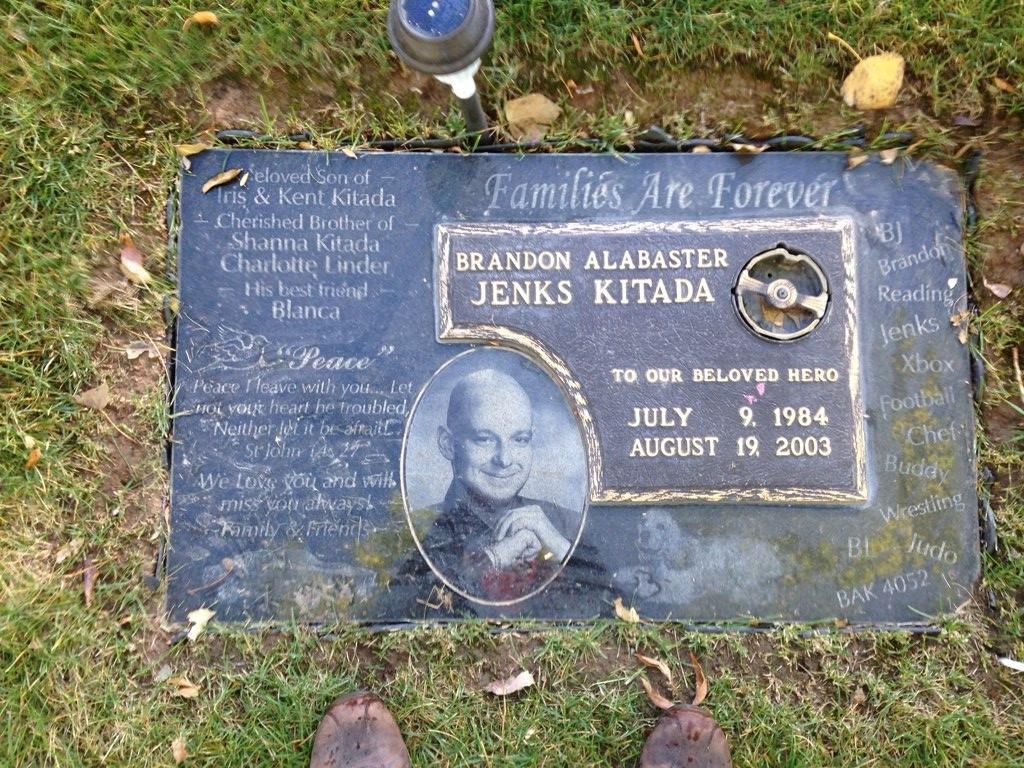flat: (167, 133, 990, 640)
